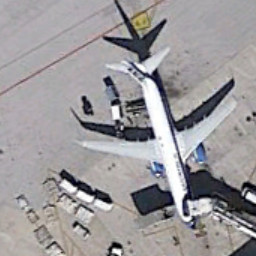Airplane: (61, 35, 249, 235)
